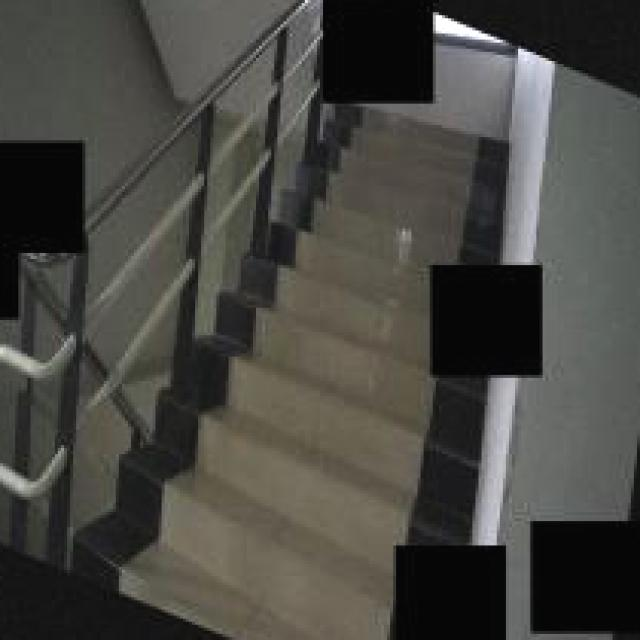upstair: (126, 315, 394, 640)
